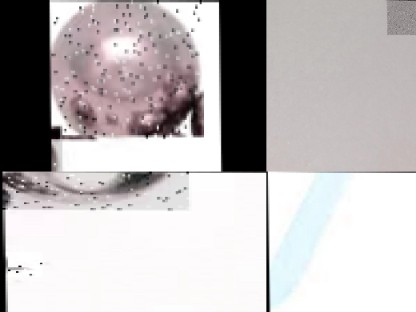ironball: (47, 0, 201, 138), (0, 171, 187, 210)
